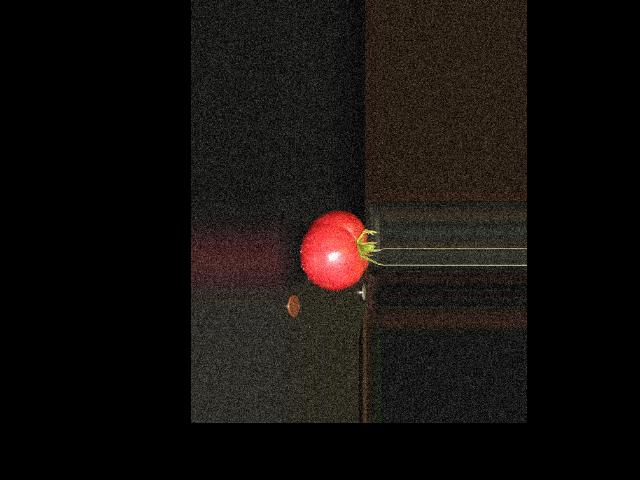tomato: (299, 209, 368, 289)
